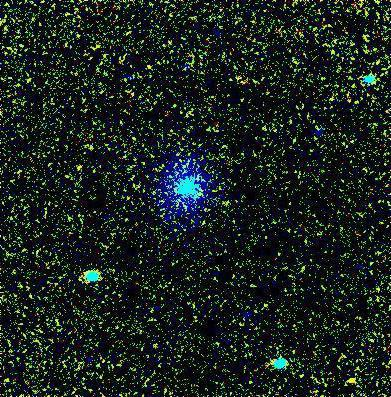star: (335, 365, 365, 395)
